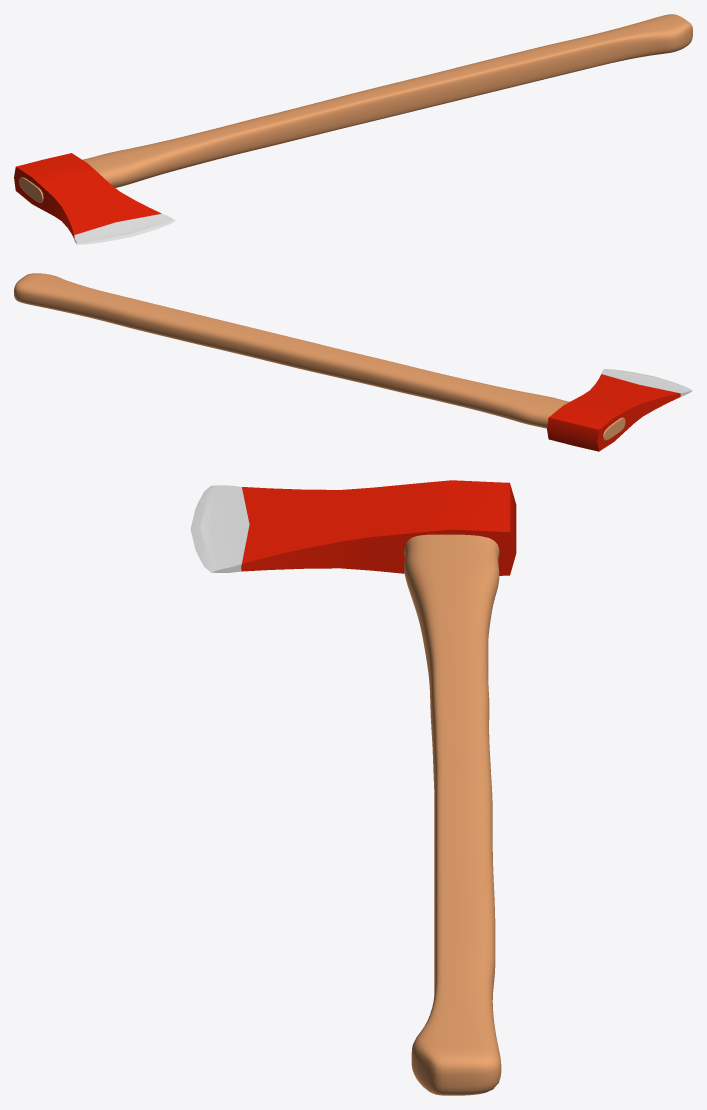
File: axeExport-4.fbx
3 views of the same model, one above another, from view 1: azimuth 30°, elevation 25°; view 2: azimuth 150°, elevation 25°; view 3: azimuth 270°, elevation 25° (orthographic). The views are drawn at different scales.
Parts seen in each view (by area): view 1: Handle.003; view 2: Handle.003; view 3: Handle.003.
Boxes of the visible parts, bbox=[...] form: Handle.003: bbox=[14, 14, 692, 244]; Handle.003: bbox=[14, 273, 692, 451]; Handle.003: bbox=[190, 480, 516, 1095].
Bounding box in the file's own units: 2115 × 82.15 × 488.
